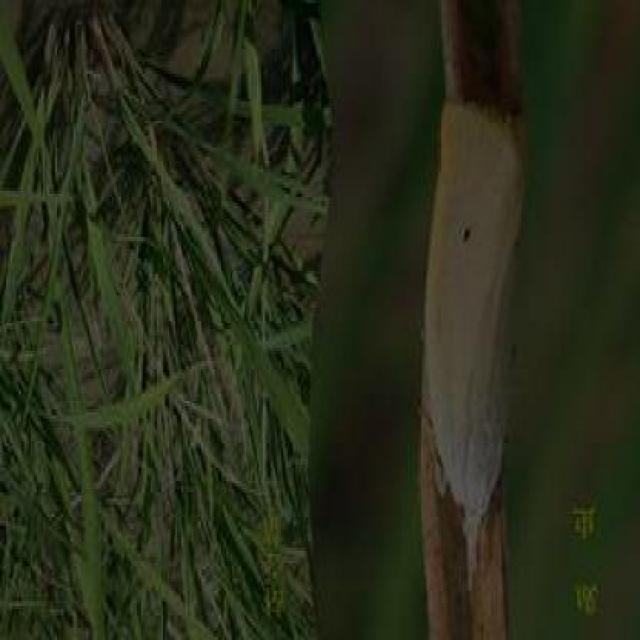stem-borer: (420, 92, 529, 597)
